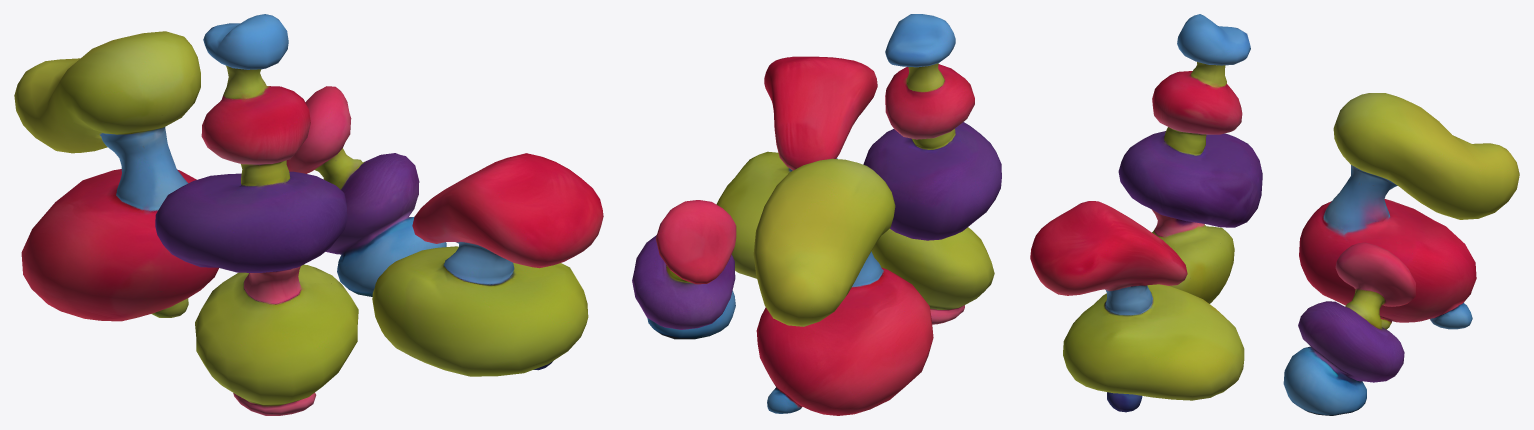
Rendered from 13c14f4f-fab8-4d5a-9b14-d25a2a3d95b4.glb.
The picture shows the model from 3 angles, left to right: view 1: azimuth 30°, elevation 25°; view 2: azimuth 150°, elevation 25°; view 3: azimuth 270°, elevation 25°; orthographic projection. The views are drawn at different scales.
Parts seen in each view (by area): view 1: tripo_node_b62b1914-6fd3-4b35-9f3b-5c9b9427fd10; view 2: tripo_node_b62b1914-6fd3-4b35-9f3b-5c9b9427fd10; view 3: tripo_node_b62b1914-6fd3-4b35-9f3b-5c9b9427fd10.
Part boxes in pixels (bbox=[...]): tripo_node_b62b1914-6fd3-4b35-9f3b-5c9b9427fd10: bbox=[14, 14, 603, 415]; tripo_node_b62b1914-6fd3-4b35-9f3b-5c9b9427fd10: bbox=[632, 14, 1001, 415]; tripo_node_b62b1914-6fd3-4b35-9f3b-5c9b9427fd10: bbox=[1030, 14, 1519, 415].
Size of the model in its own units: 0.726 by 0.6869 by 0.998.
Materials: 1 (1 with a texture image).
